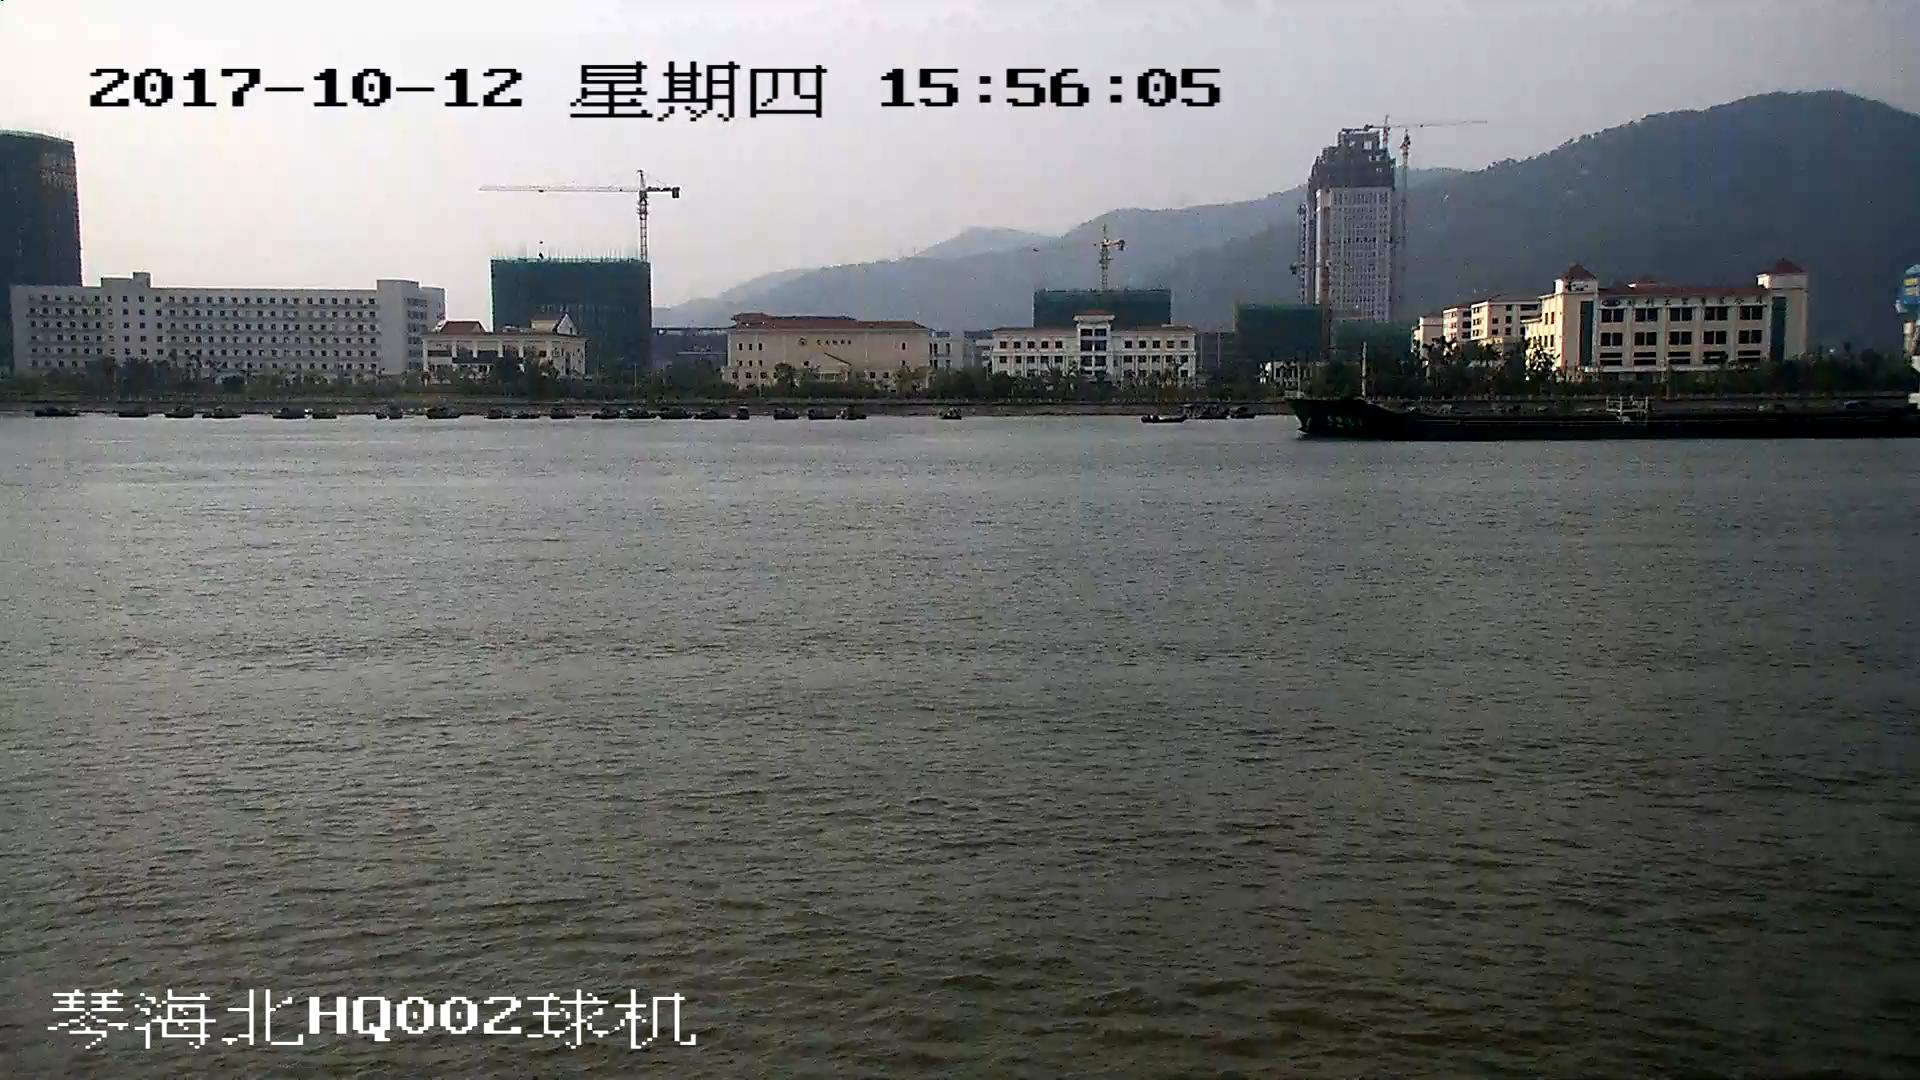general cargo ship: (1290, 373, 1920, 436)
